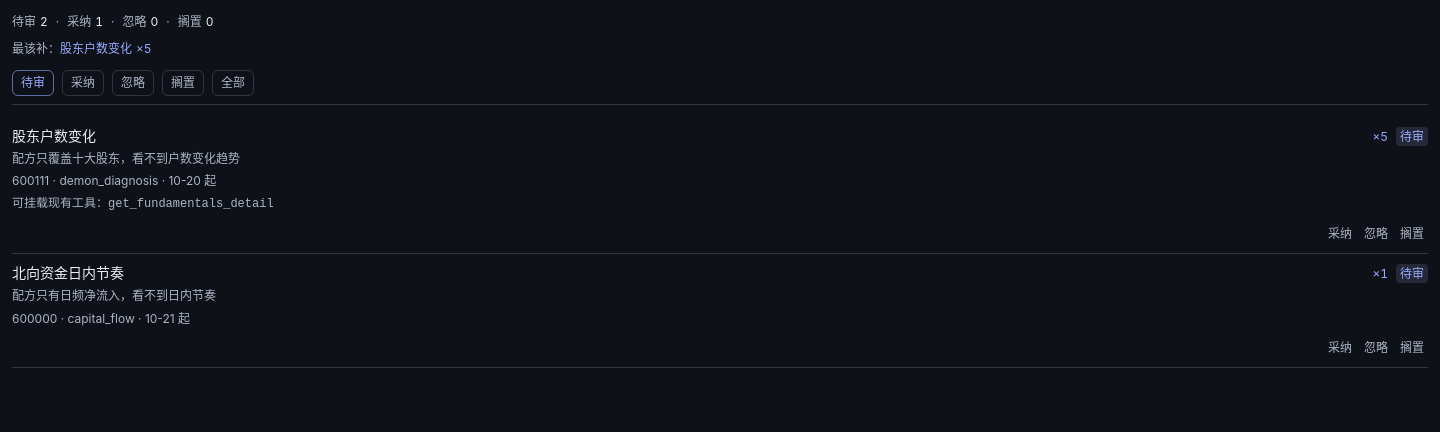
ProposalPanel › 点行展开证据，再点收起
Expected: the number of list items with test id "proposal-row" is 2, [12,117,1428,254]; [12,254,1428,368]
Click the button with test id "proposal-expand" that starts with "股东户数变化" at (54, 135), box [12,125,1428,214]
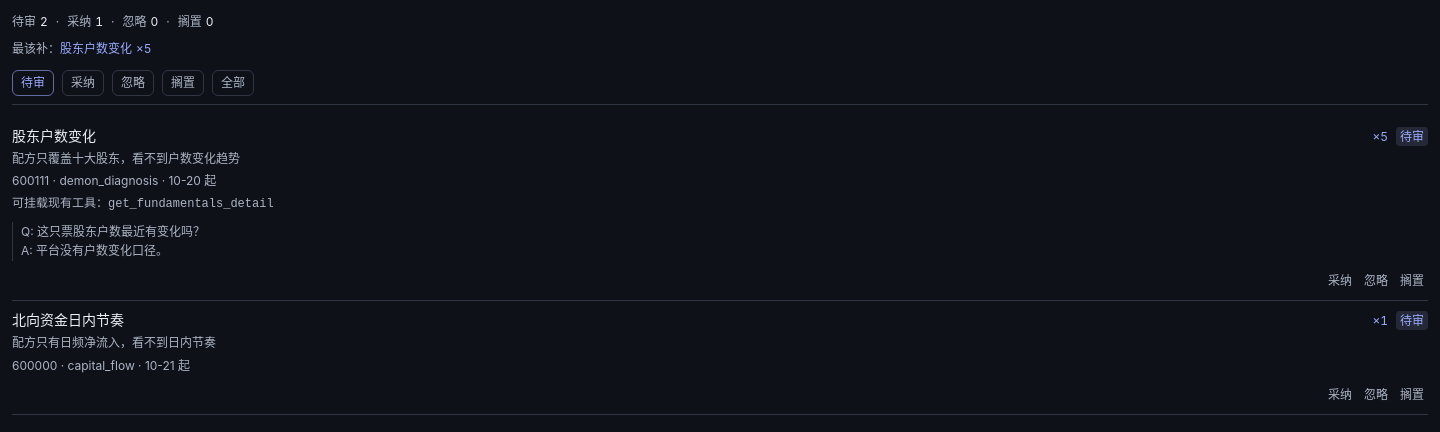
Expected: the text with test id "proposal-evidence" shows "股东户数最近有变化吗", [21,224,205,258]
Click the button with test id "proposal-expand" that starts with "股东户数变化" at (54, 135), box [12,125,1428,214]
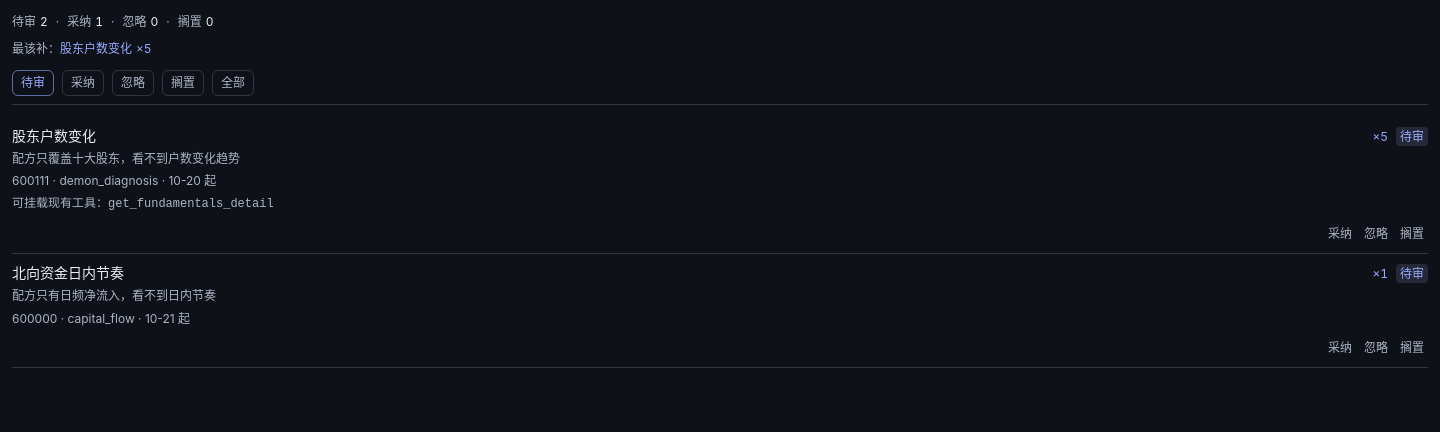
Expected: the text with test id "proposal-evidence" is gone
